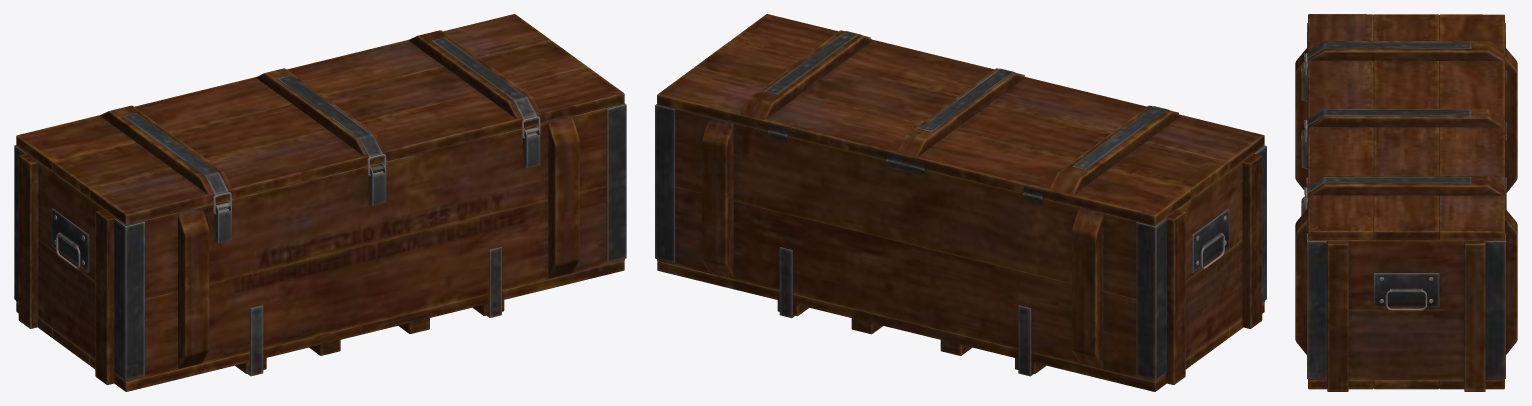
Rendered from wooden_military_crate.glb.
3 views of the same model, side by side, from view 1: azimuth 30°, elevation 25°; view 2: azimuth 150°, elevation 25°; view 3: azimuth 270°, elevation 25° (orthographic). The views are drawn at different scales.
Parts seen in each view (by area): view 1: wooden_military_crate; view 2: wooden_military_crate; view 3: wooden_military_crate.
Part boxes in pixels (x1=…): wooden_military_crate: x1=14, y1=14, x2=626, y2=391; wooden_military_crate: x1=655, y1=14, x2=1266, y2=391; wooden_military_crate: x1=1295, y1=14, x2=1517, y2=391.
Size of the model in its own units: 1.24 by 0.4648 by 0.5198.
Materials: 1 (1 with a texture image).
